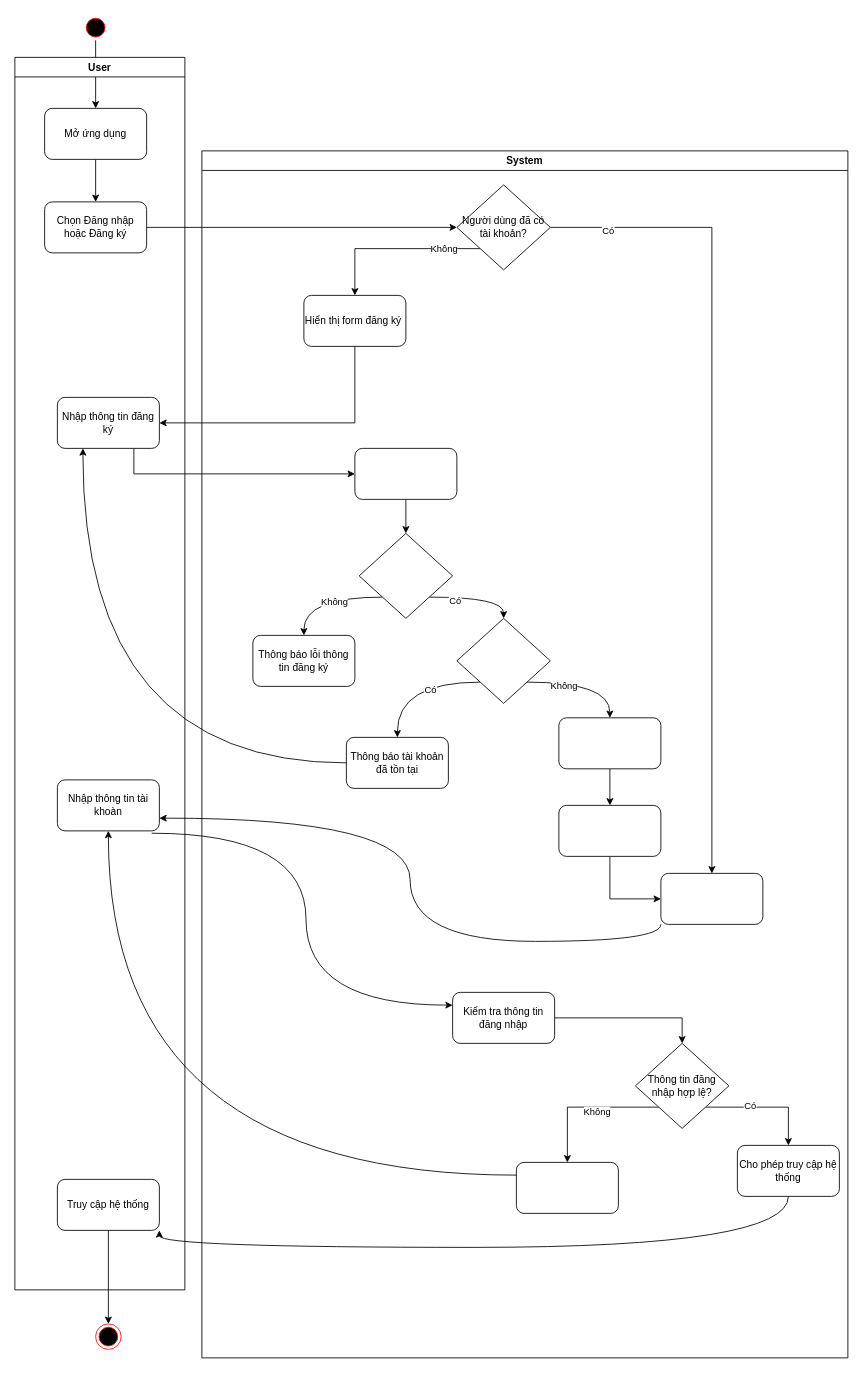
Some shapes in this 863 by 1373 pixel diagram are drawn without their labels. Each missing label, with the centre of its shape:
"Email tài khoản đã tồn tại?" goes at (503,660).
"Hiển thị form đăng nhập" goes at (711,898).
"Kiểm tra thông tin đăng ký" goes at (405,473).
"Thông báo đăng ký thành công" goes at (609,830).
"Thông báo đăng nhập thất bại" goes at (567,1187).
"Thông tin đăng ký hợp lệ?" goes at (405,575).
"Tạo tài khoản mới" goes at (609,743).
